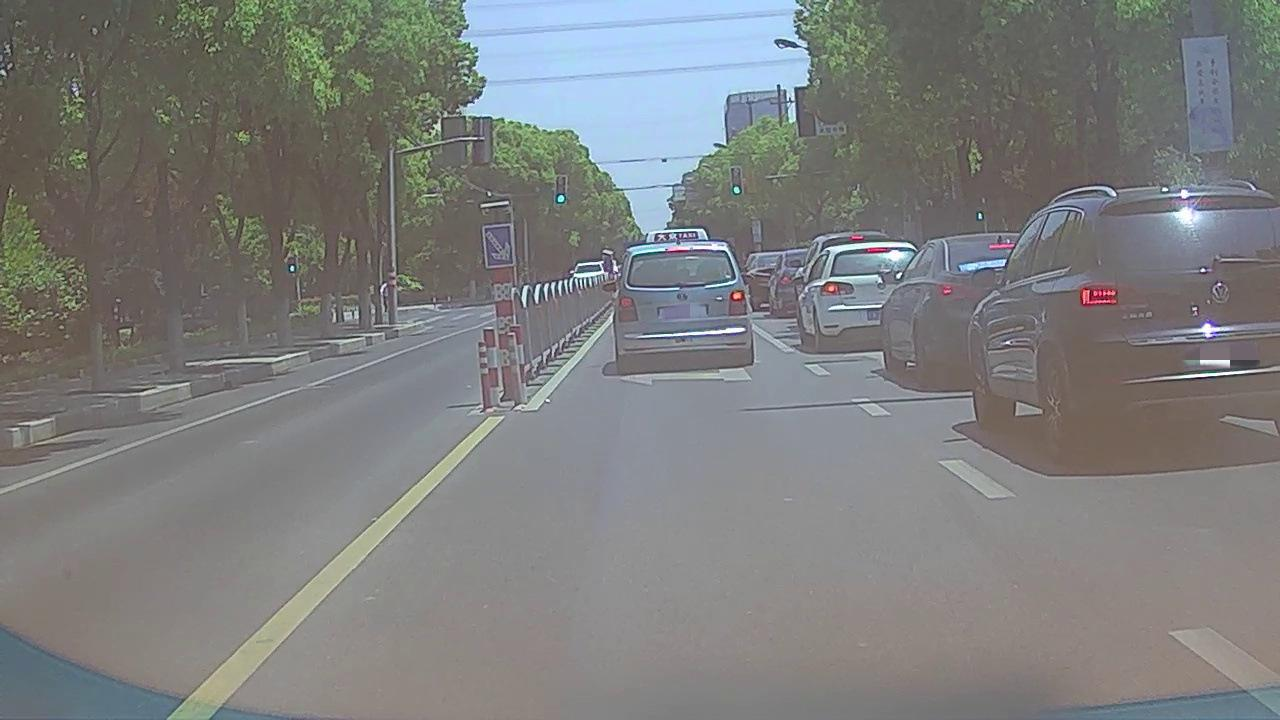traffic_light: (731, 168, 741, 194), (557, 175, 566, 203)
